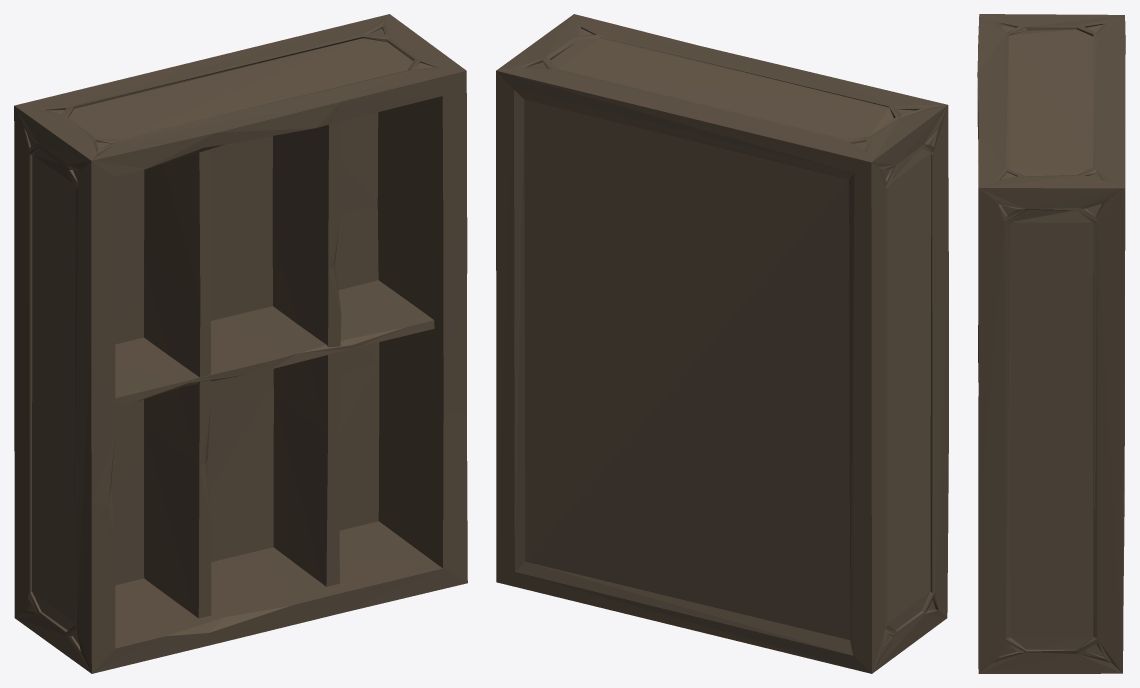
Rendered from SFHW_Shelving_001.fbx.
3 views of the same model, side by side, from view 1: azimuth 30°, elevation 25°; view 2: azimuth 150°, elevation 25°; view 3: azimuth 270°, elevation 25° (orthographic). The views are drawn at different scales.
Visible parts, largest first — view 1: SFHW_Shelving_001; view 2: SFHW_Shelving_001; view 3: SFHW_Shelving_001.
Part boxes in pixels (<box>): SFHW_Shelving_001: <box>14,14,467,673</box>; SFHW_Shelving_001: <box>496,14,948,673</box>; SFHW_Shelving_001: <box>977,14,1125,673</box>.
Bounding box in the file's own units: 96.6 × 126 × 34.7.
